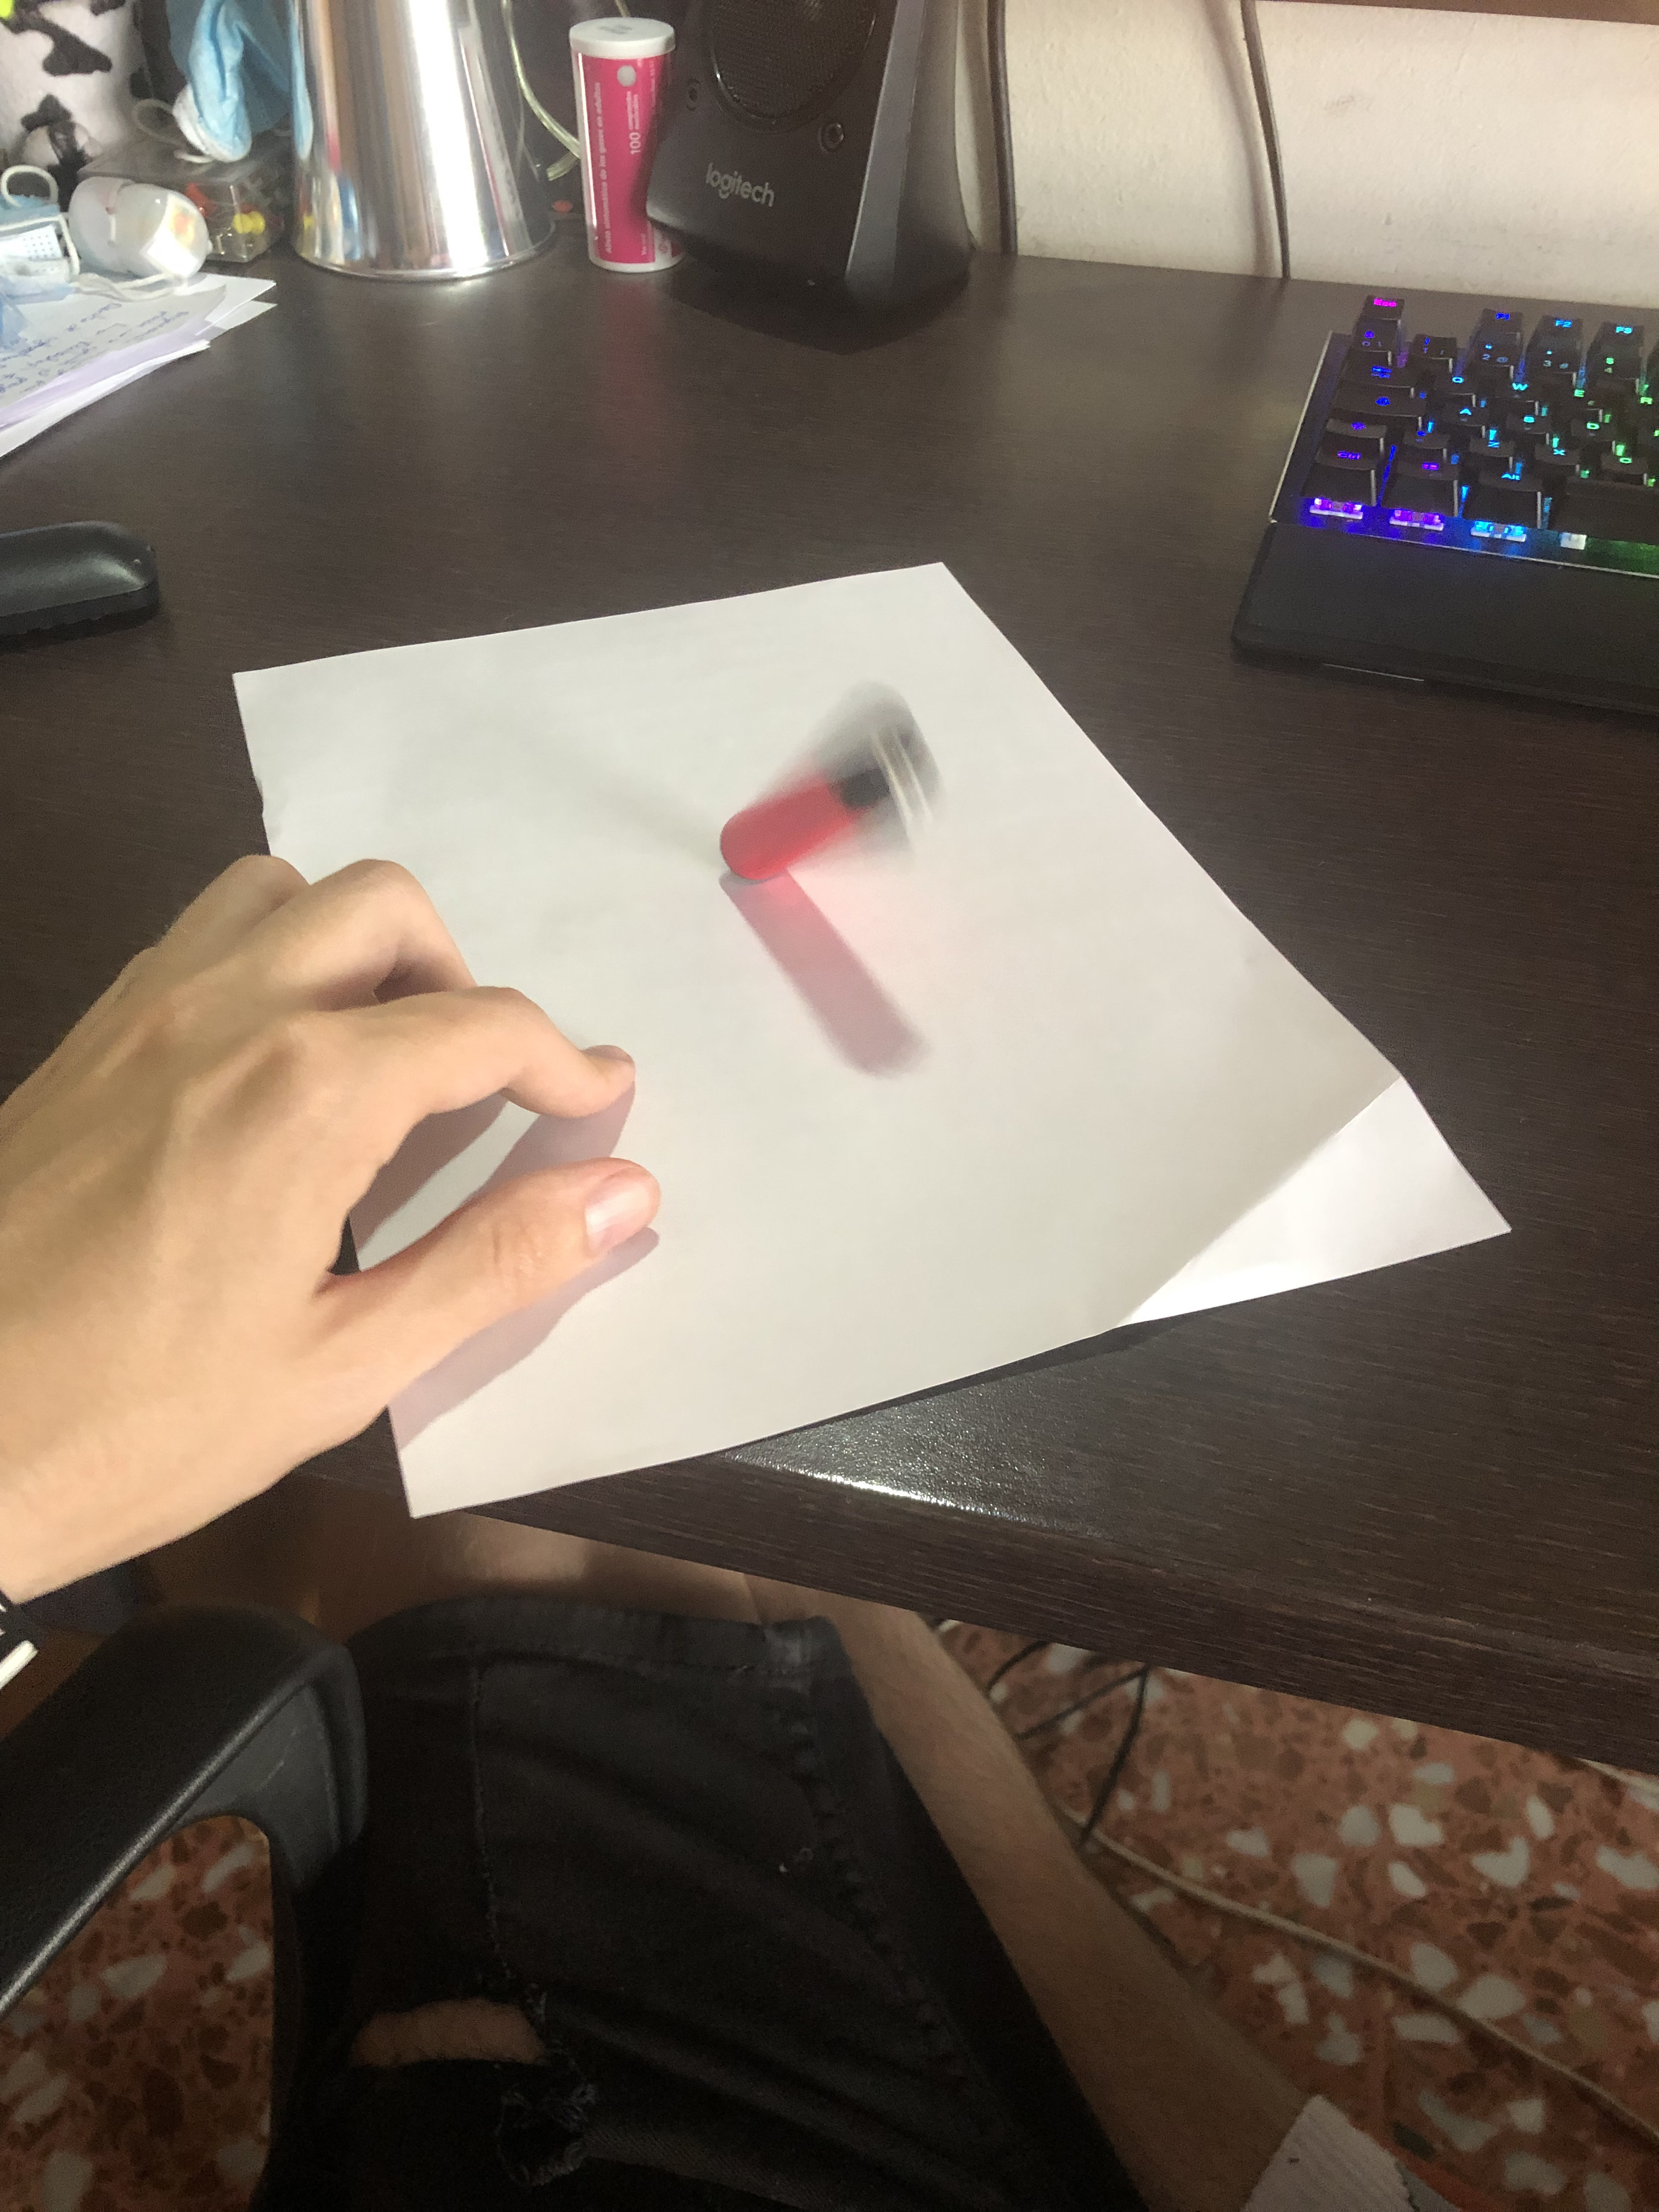Mechero: (676, 690, 951, 916)
